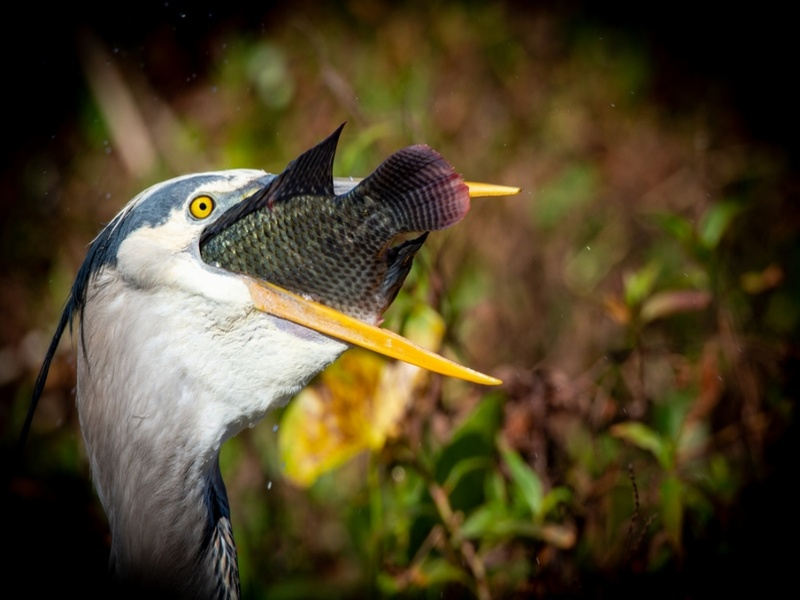heron: (47, 161, 526, 600)
